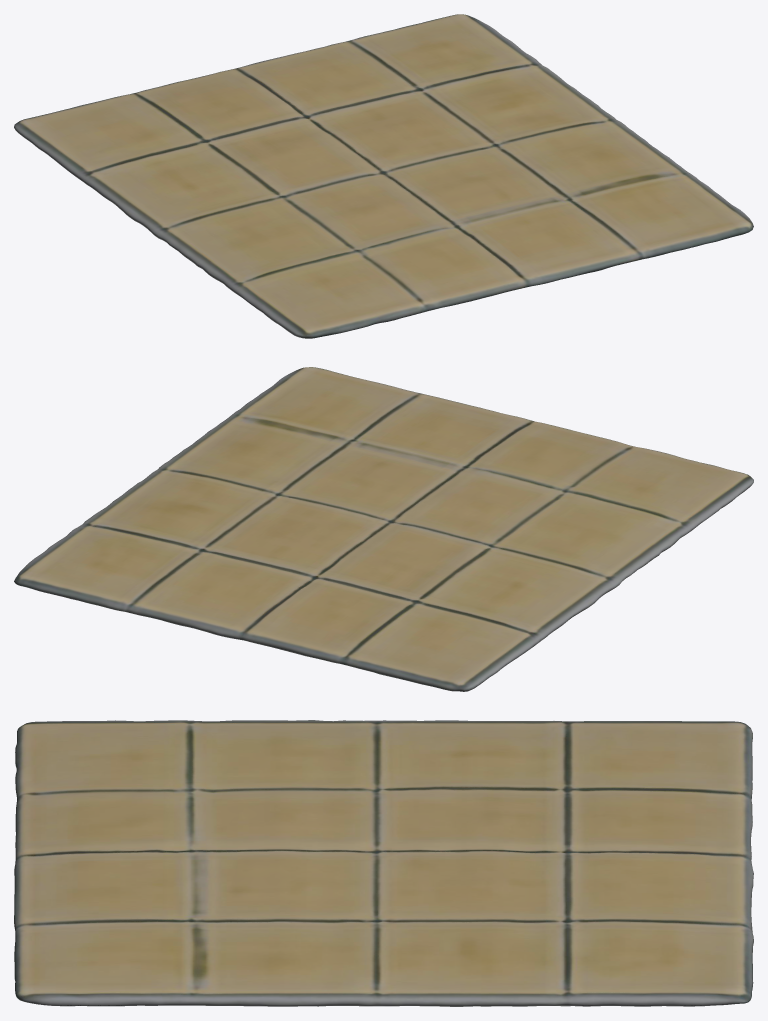
Rendered from floor.obj.
The picture shows the model from 3 angles, top to bottom: view 1: azimuth 30°, elevation 25°; view 2: azimuth 150°, elevation 25°; view 3: azimuth 270°, elevation 25°; orthographic projection. The views are drawn at different scales.
Parts seen in each view (by area): view 1: mesh; view 2: mesh; view 3: mesh.
Part boxes in pixels (left/top/right/bottom): mesh: left=14, top=14, right=753, bottom=338; mesh: left=14, top=367, right=753, bottom=691; mesh: left=14, top=720, right=753, bottom=1006.
Bounding box in the file's own units: 0.9047 × 0.0326 × 0.9982.
1 material, 1 textured.
